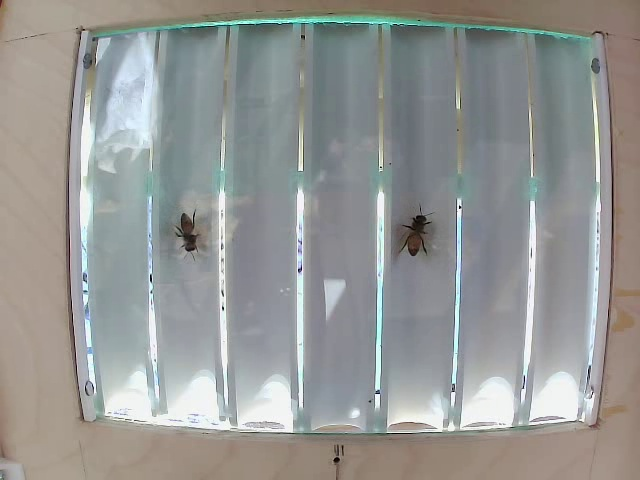bee: (169, 195, 202, 254), (403, 206, 432, 269)
